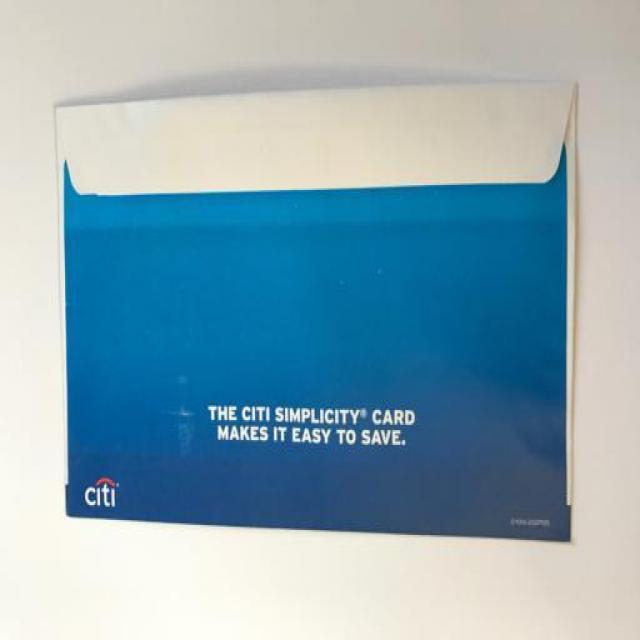paper: (48, 84, 576, 540)
